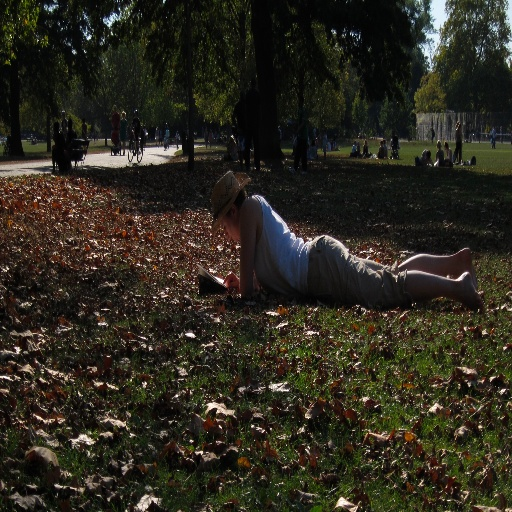hand: (221, 267, 239, 289)
